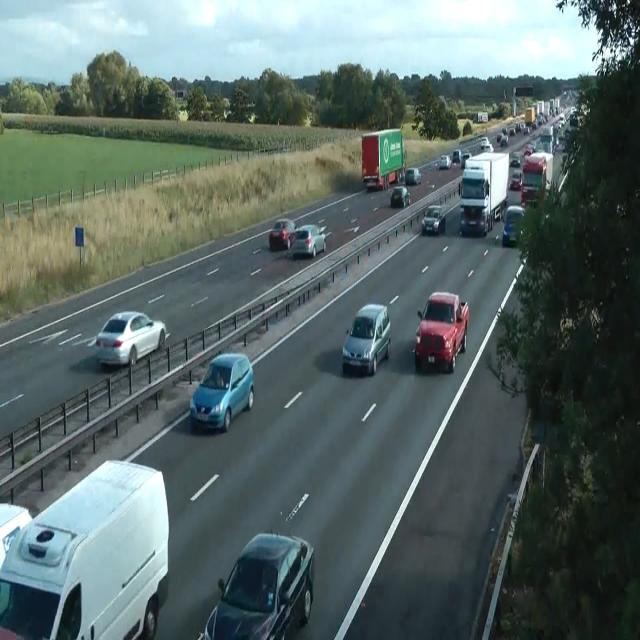bus: (190, 352, 254, 433), (94, 310, 168, 368), (342, 302, 391, 376), (0, 501, 32, 571), (288, 223, 326, 259), (502, 204, 526, 247), (268, 218, 296, 252), (422, 205, 446, 235), (390, 186, 410, 208), (405, 167, 421, 185), (436, 154, 452, 170), (510, 169, 522, 190), (509, 150, 521, 166), (461, 151, 472, 168), (524, 143, 534, 157)
jeep: (0, 458, 170, 638), (198, 529, 314, 638), (413, 290, 469, 372)
minibus: (459, 151, 509, 236), (361, 128, 406, 191), (520, 151, 553, 208), (472, 111, 488, 124), (525, 107, 535, 125)
